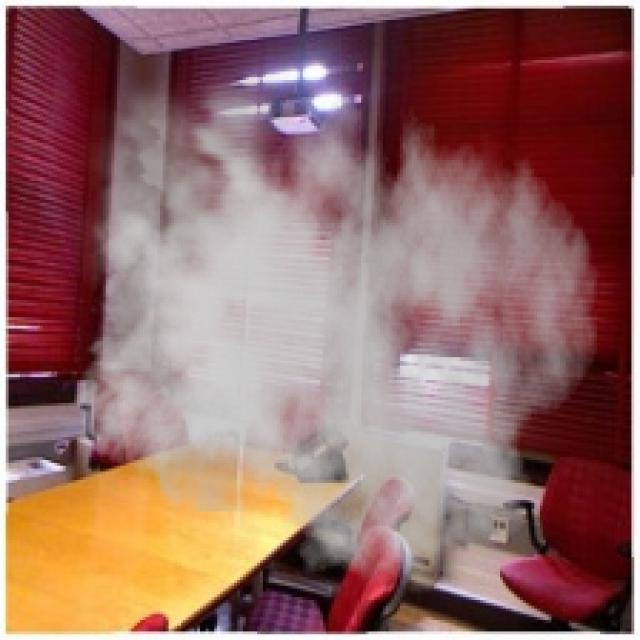smoke: (60, 51, 600, 594)
